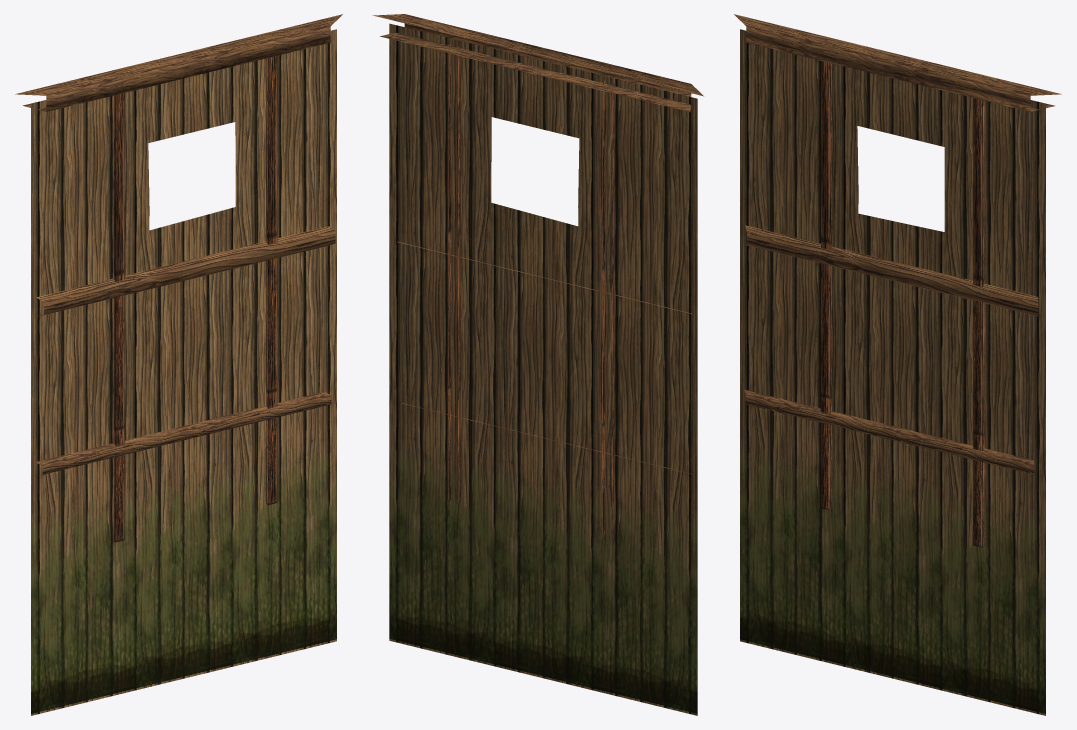
The model's file is LAKETOWN_WAREHOUSE2_PS_WH2_EXIT_WALL94948__GX.fbx.
3 renders of one model, left to right at view 1: azimuth 30°, elevation 25°; view 2: azimuth 150°, elevation 25°; view 3: azimuth 330°, elevation 25°, orthographic.
Parts seen in each view (by area): view 1: LAKETOWN_WAREHOUSE2_PS_WH2_EXIT_WALL94948__GX; view 2: LAKETOWN_WAREHOUSE2_PS_WH2_EXIT_WALL94948__GX; view 3: LAKETOWN_WAREHOUSE2_PS_WH2_EXIT_WALL94948__GX.
Part boxes in pixels (x1,y1,x2,y2): LAKETOWN_WAREHOUSE2_PS_WH2_EXIT_WALL94948__GX: (15,14,342,715); LAKETOWN_WAREHOUSE2_PS_WH2_EXIT_WALL94948__GX: (372,14,703,715); LAKETOWN_WAREHOUSE2_PS_WH2_EXIT_WALL94948__GX: (734,14,1061,715).
Bounding box in the file's own units: 84362 × 151983 × 5538.
Materials: 5 (5 with a texture image).
